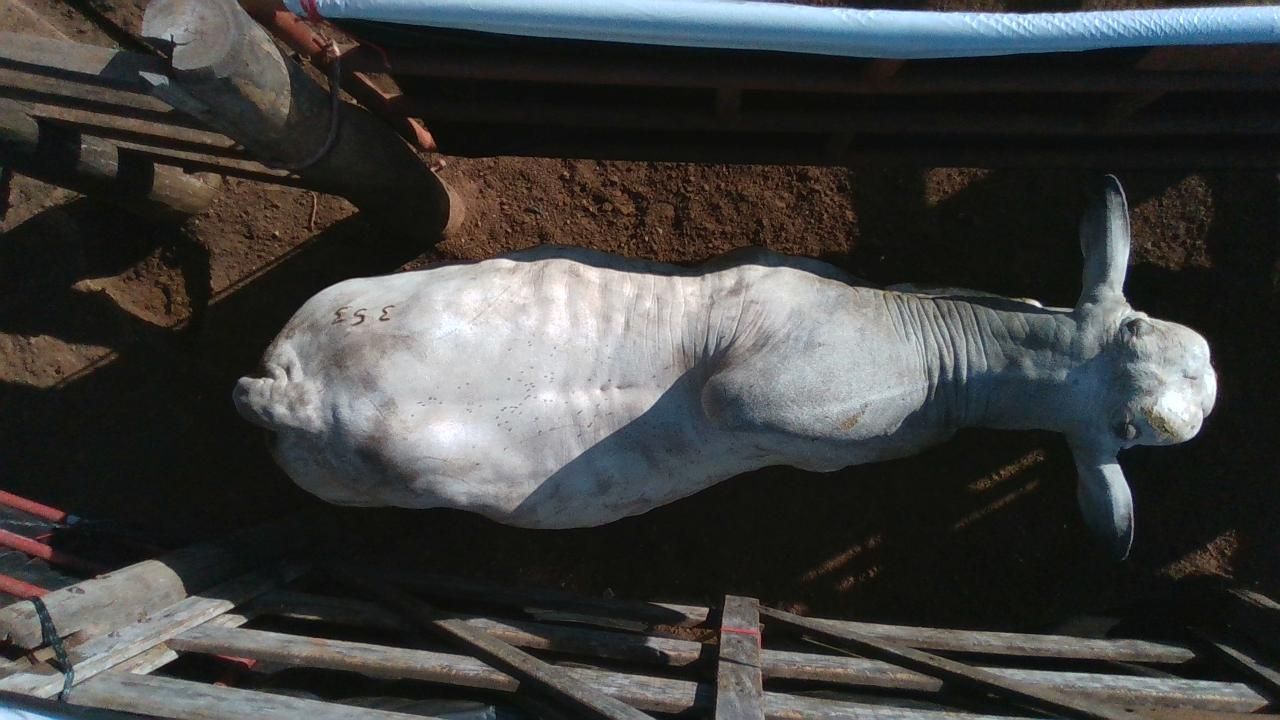cattle: (231, 171, 1218, 561)
